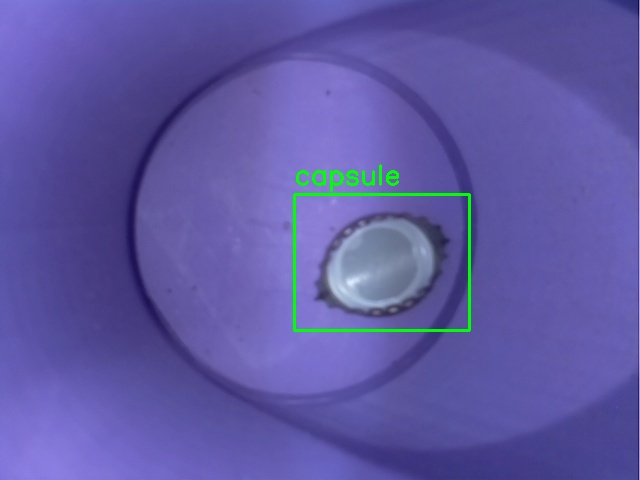capsule: (294, 194, 469, 330)
